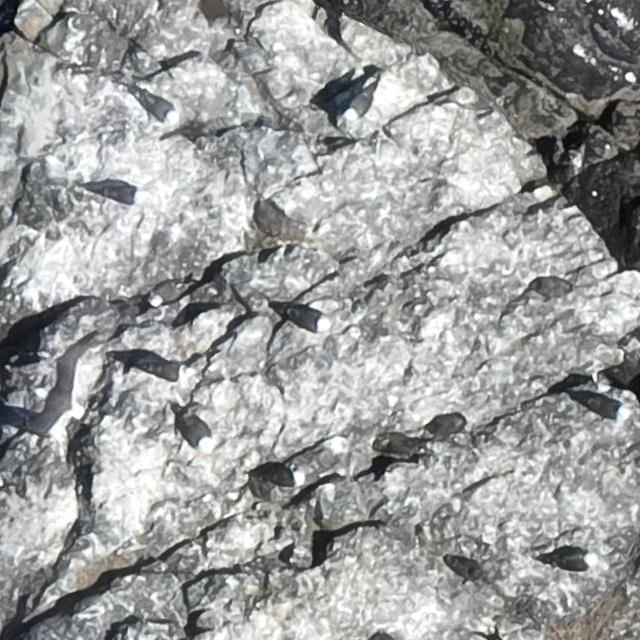F: (28, 337, 103, 438)
umineko: (181, 411, 214, 456), (142, 359, 188, 383), (579, 396, 620, 417), (549, 550, 594, 569), (142, 95, 178, 118), (287, 308, 326, 329), (101, 186, 142, 204), (150, 284, 180, 304), (348, 92, 372, 117)
